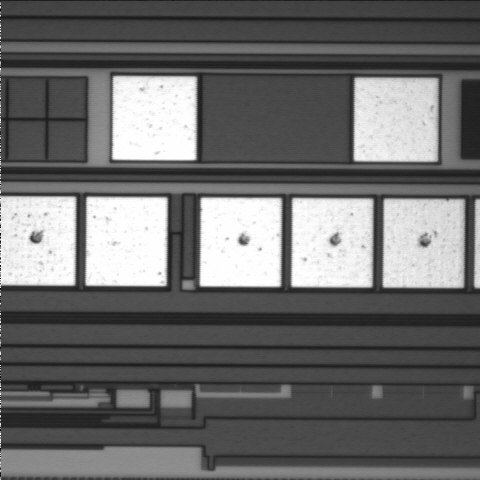pad: (200, 198, 282, 287), (291, 198, 373, 287), (86, 197, 167, 286), (383, 199, 464, 288), (112, 76, 196, 160), (354, 78, 438, 162)
